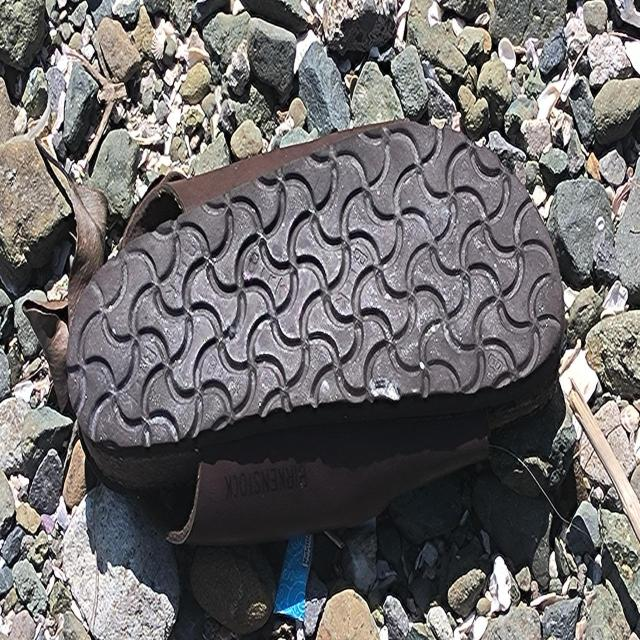rubber_waste: (66, 115, 571, 551)
